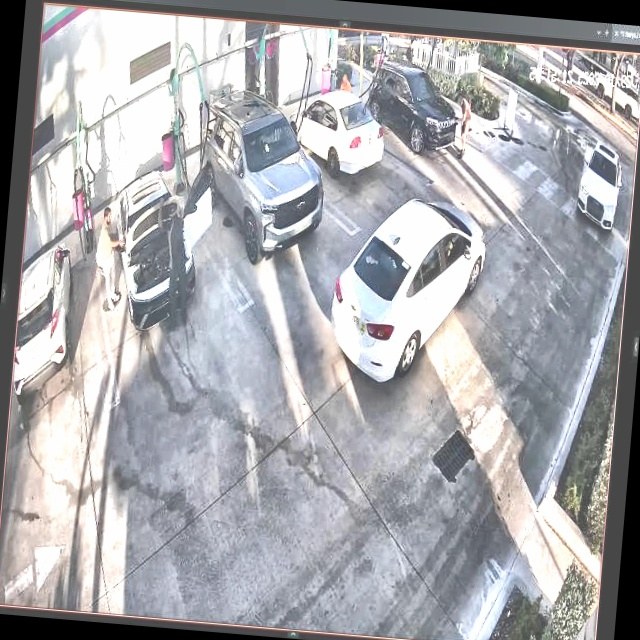Car: (326, 191, 488, 393), (192, 88, 329, 271), (105, 161, 210, 335), (281, 85, 386, 178), (365, 63, 461, 154)
